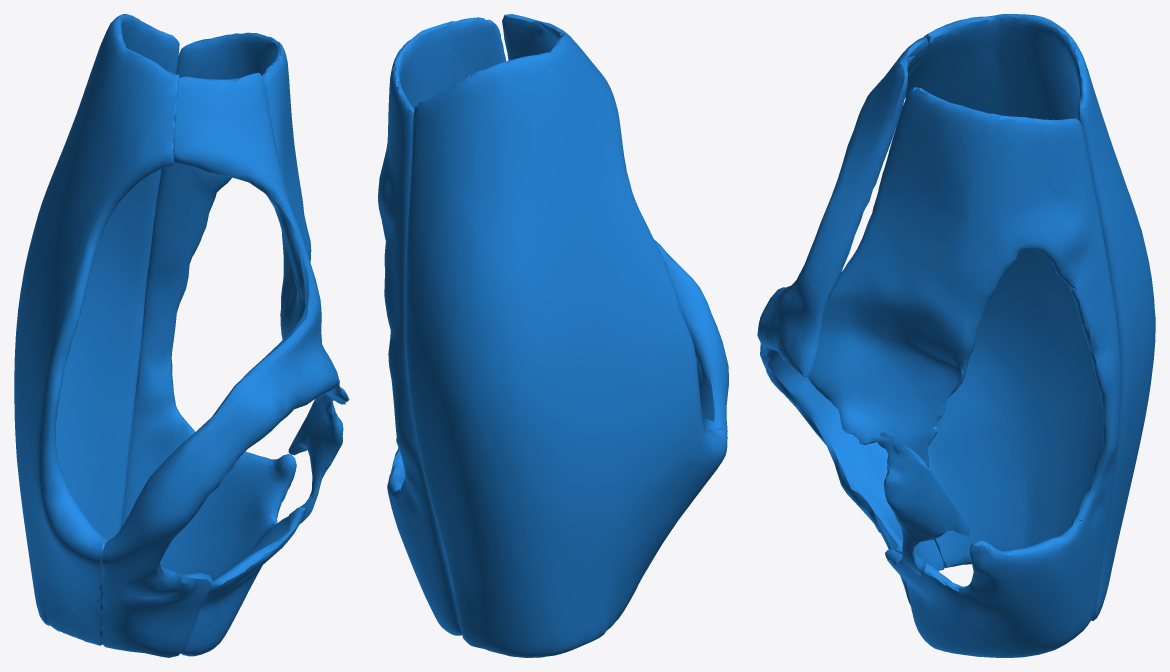
The model's file is serambiKanan.glb.
3 views of the same model, side by side, from view 1: azimuth 30°, elevation 25°; view 2: azimuth 150°, elevation 25°; view 3: azimuth 270°, elevation 25° (orthographic). The views are drawn at different scales.
Visible parts, largest first — view 1: MM591_BP51888_FMA84094_Septal wall of right atrium; view 2: MM591_BP51888_FMA84094_Septal wall of right atrium; view 3: MM591_BP51888_FMA84094_Septal wall of right atrium.
Boxes of the visible parts, <box> form: MM591_BP51888_FMA84094_Septal wall of right atrium: <box>14,14,349,657</box>; MM591_BP51888_FMA84094_Septal wall of right atrium: <box>378,14,728,657</box>; MM591_BP51888_FMA84094_Septal wall of right atrium: <box>757,14,1155,657</box>.
Bounding box in the file's own units: 0.0462 × 0.0918 × 0.0543.
